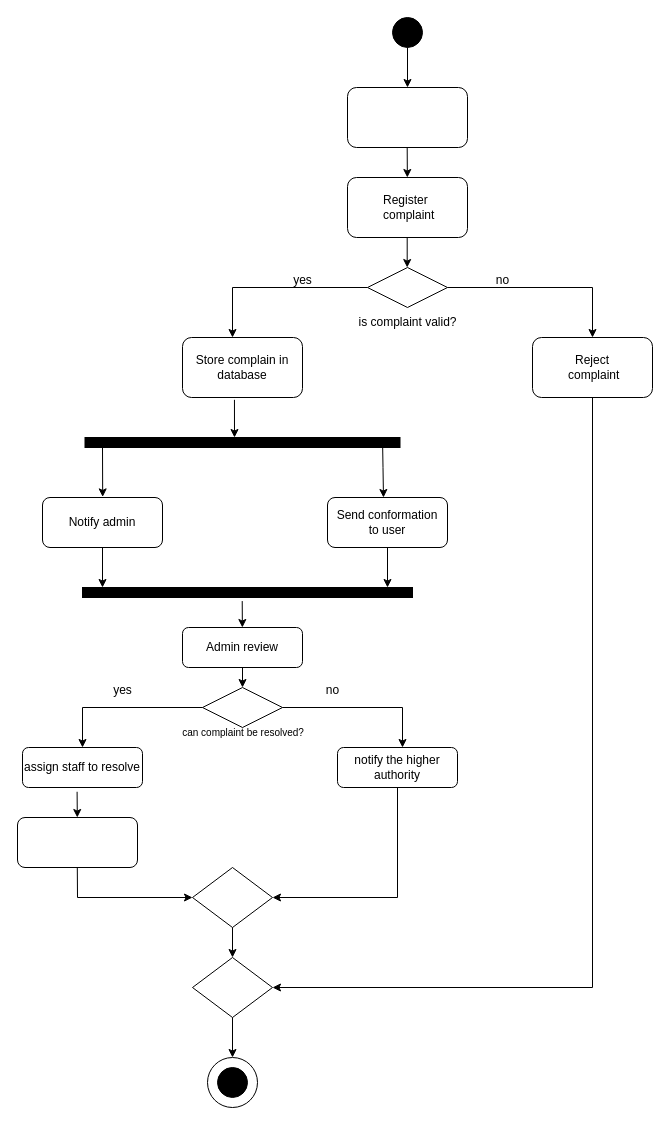
The diagram is 670 pixels wide and 1125 high, and some of its shapes have lost their labels. The shapes that lost their labels are listed below. From the top down, each one's box as (x1, y1, x2, y2) in pixels, then its label:
(346, 86, 468, 148): Student login
(16, 816, 138, 868): update status
